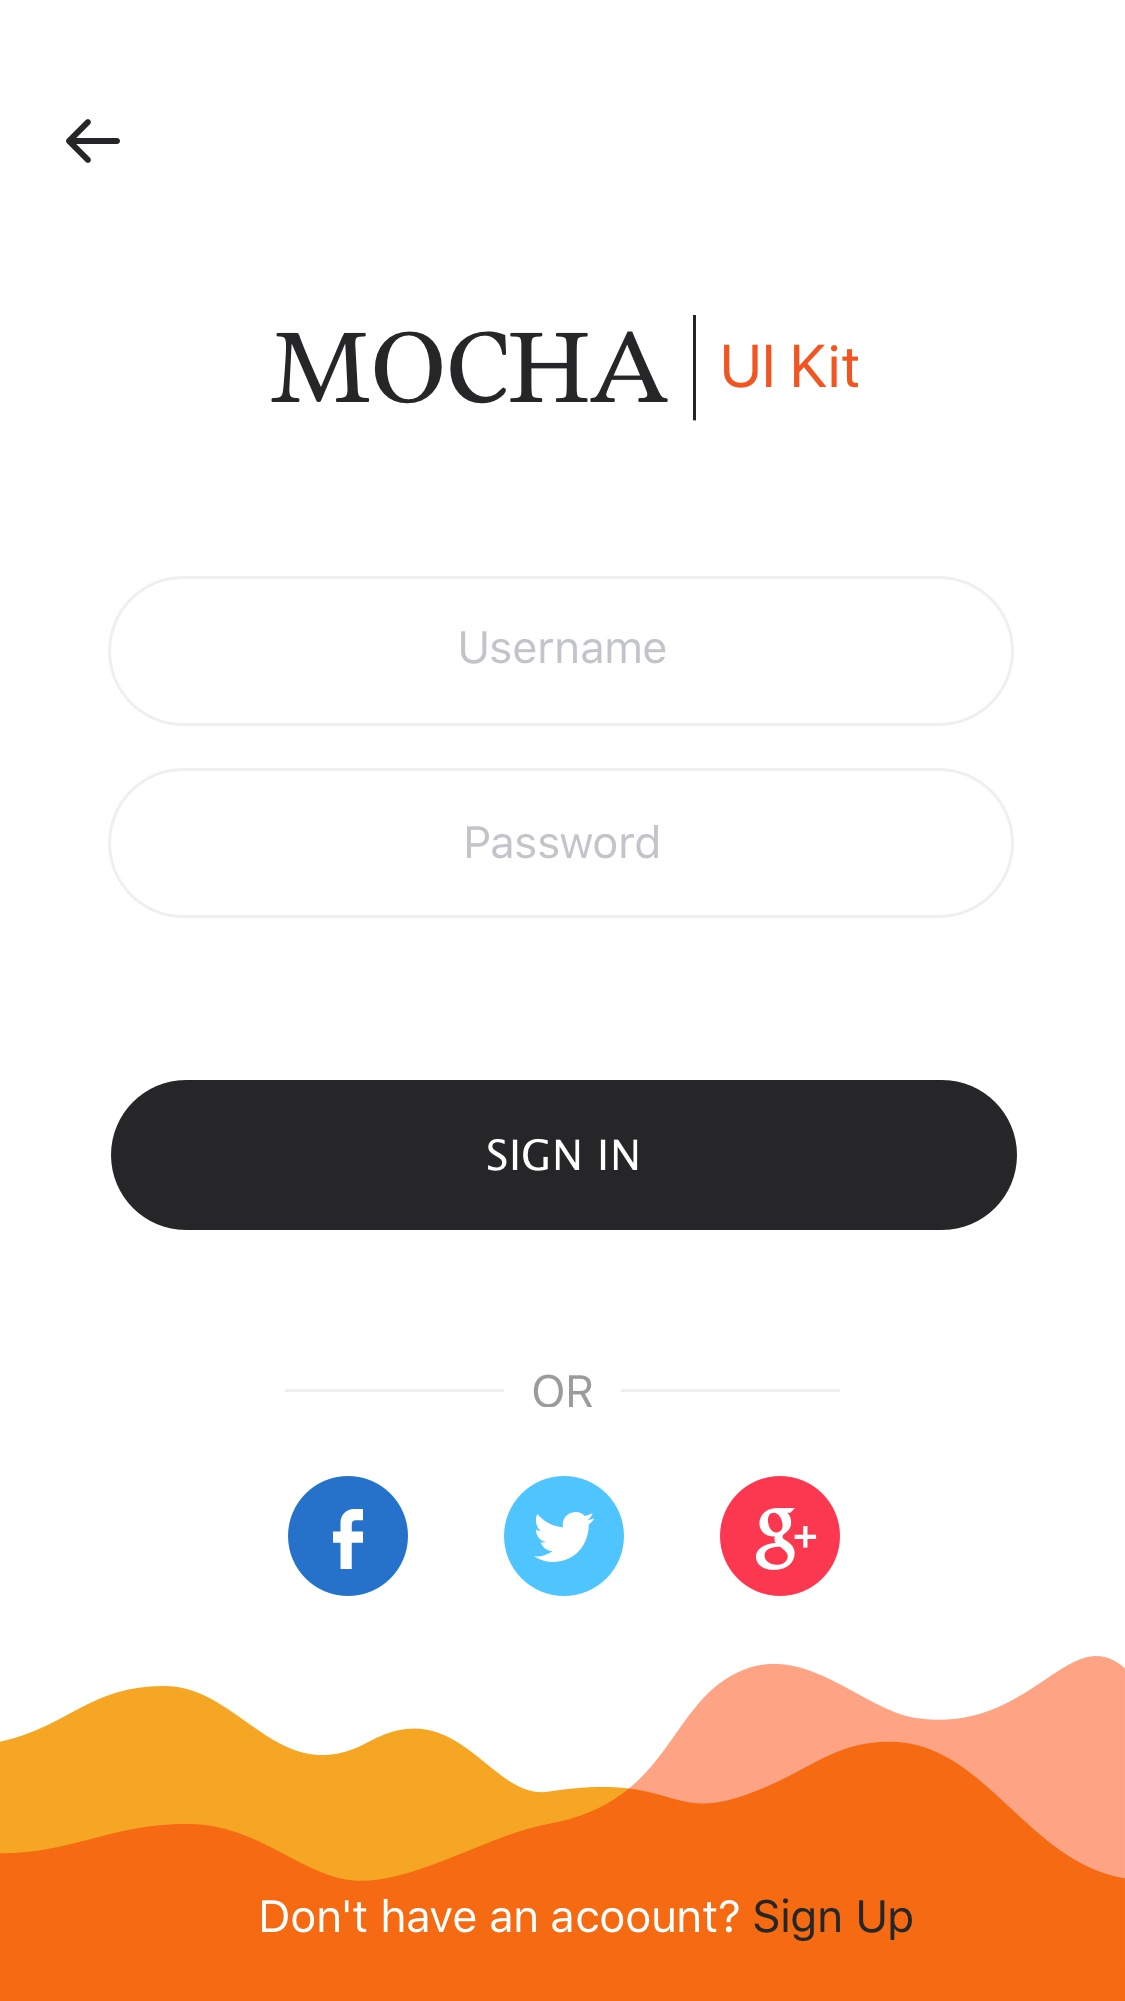EditText: (109, 576, 1015, 727), (109, 768, 1015, 919)
Icon: (720, 1475, 841, 1597), (288, 1475, 409, 1597), (504, 1476, 625, 1597), (66, 120, 122, 165)
Text: (261, 1897, 913, 1942), (271, 331, 669, 405), (466, 825, 659, 860), (460, 632, 668, 665), (723, 344, 859, 390), (533, 1373, 593, 1409)
TextButton: (111, 1080, 1018, 1231)
